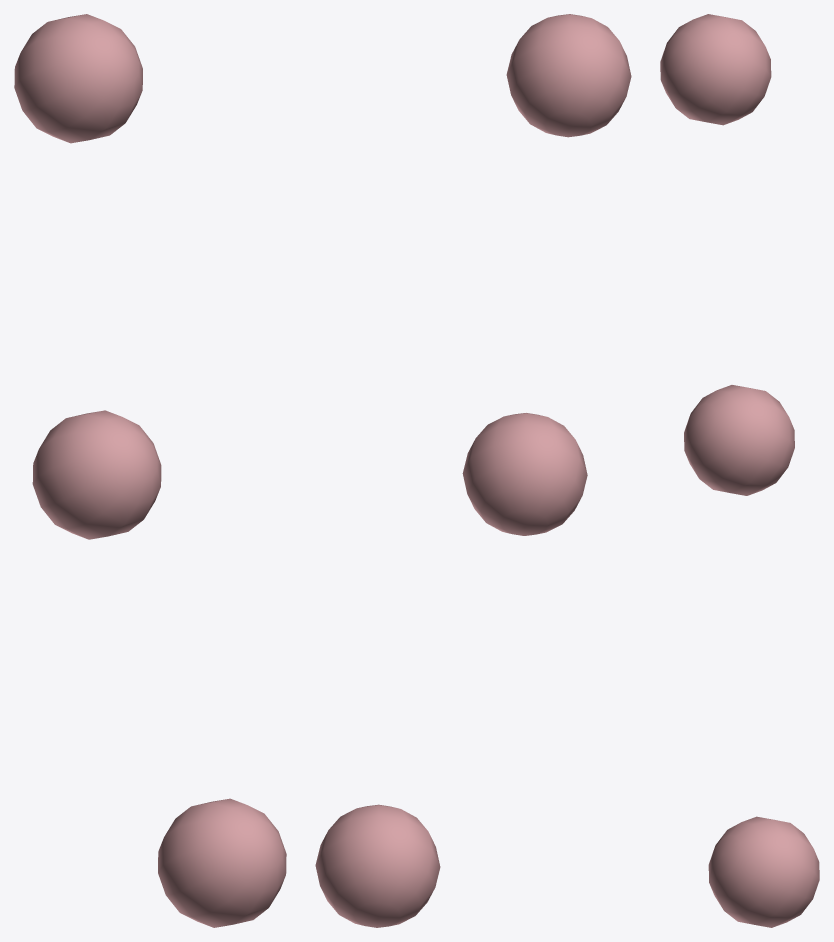
The picture shows the model from 3 angles, left to right: view 1: azimuth 30°, elevation 25°; view 2: azimuth 150°, elevation 25°; view 3: azimuth 270°, elevation 25°; orthographic projection. The views are drawn at different scales.
Parts seen in each view (by area): view 1: ZA_9287e670318934bf; view 2: ZA_9287e670318934bf; view 3: ZA_9287e670318934bf.
Boxes of the visible parts, x1,y1,x2,y2 form: ZA_9287e670318934bf: (14,14,286,927); ZA_9287e670318934bf: (315,14,631,927); ZA_9287e670318934bf: (660,14,819,927).
Bounding box in the file's own units: 0.0065 × 0.0212 × 0.00368.
